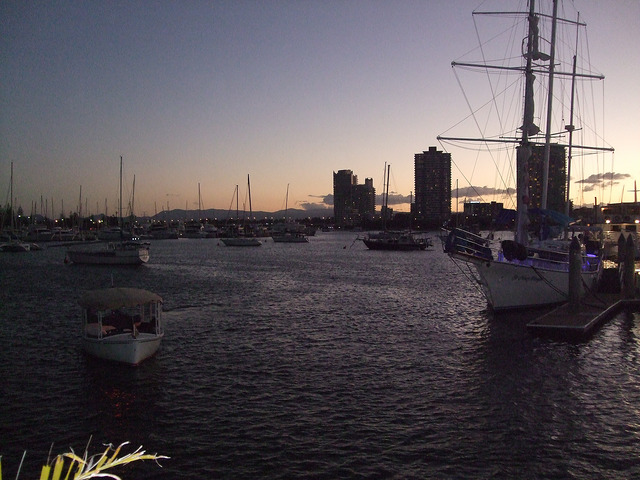boat: (65, 155, 154, 266), (77, 278, 166, 370), (357, 162, 433, 250), (216, 177, 264, 249), (272, 180, 309, 244)
fishing_boat: (437, 9, 602, 306)
